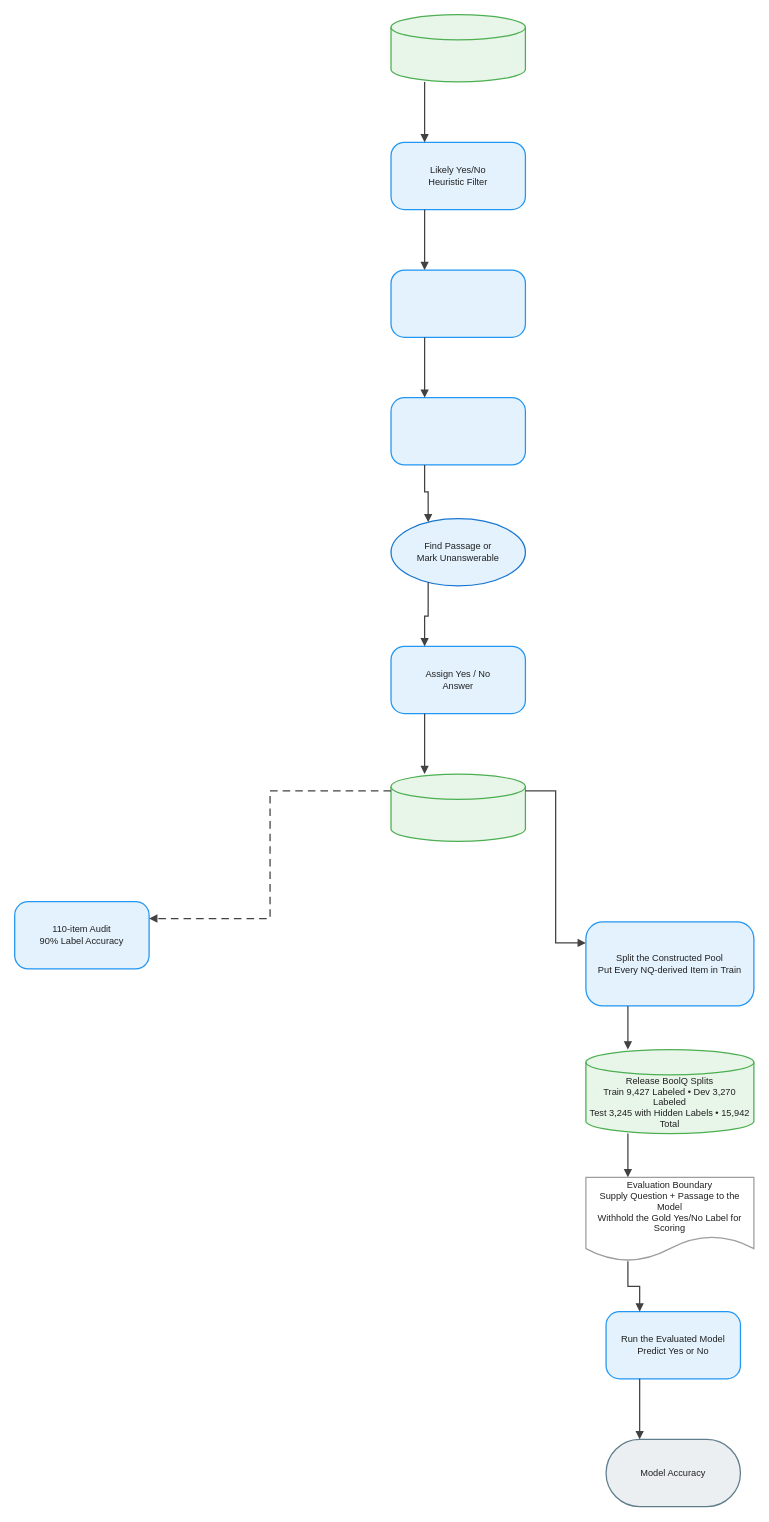
The diagram is 769 pixels wide and 1522 high, and some of its shapes have lost their labels. Here are the shapes that lost their labels. From the top down, the box of each, then its label:
(390, 14, 526, 82): Anonymized Google Search Queries
(390, 269, 526, 338): Wikipedia in Top 5 Results
(390, 397, 526, 465): Judge Question Before Page View
(390, 773, 526, 842): 13k New + 3k NQ 16k Total
